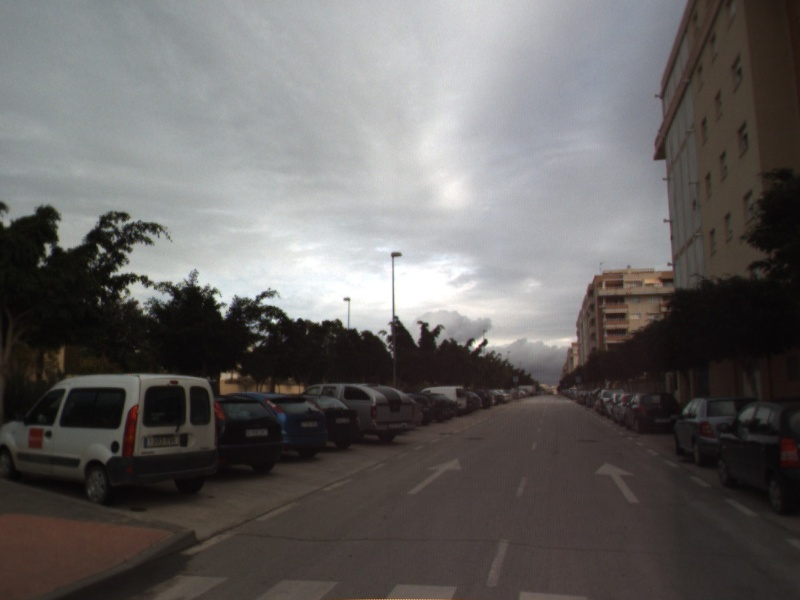STRAIGHT: (405, 456, 464, 496), (592, 460, 642, 505)
